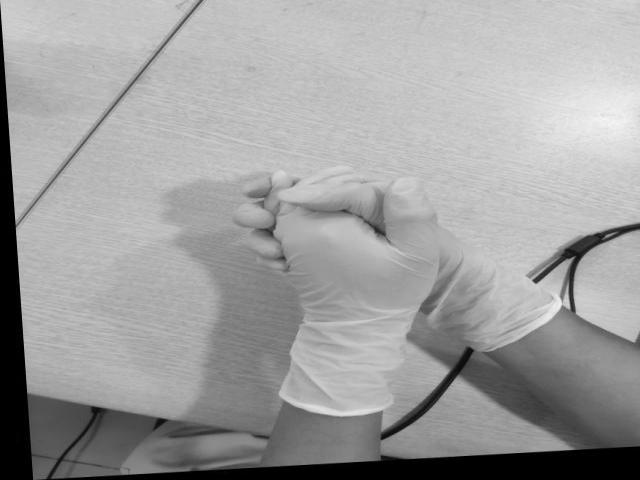gloved: (231, 175, 528, 303), (266, 157, 442, 314)
